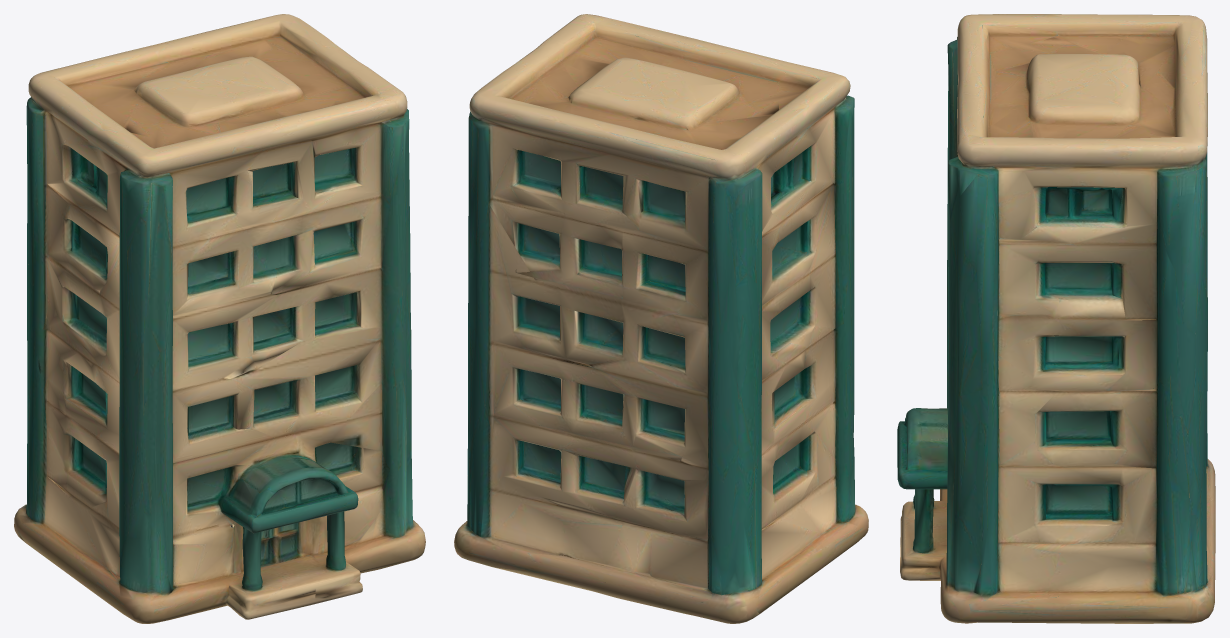
File: building-office.glb
3 views of the same model, side by side, from view 1: azimuth 30°, elevation 25°; view 2: azimuth 150°, elevation 25°; view 3: azimuth 270°, elevation 25° (orthographic). The views are drawn at different scales.
Parts seen in each view (by area): view 1: Mesh_0; view 2: Mesh_0; view 3: Mesh_0.
Part boxes in pixels (bbox=[...]): Mesh_0: bbox=[14, 14, 425, 623]; Mesh_0: bbox=[454, 14, 868, 623]; Mesh_0: bbox=[897, 14, 1215, 623].
Bounding box in the file's own units: 1.35 × 2 × 1.22.
1 material, 1 textured.
